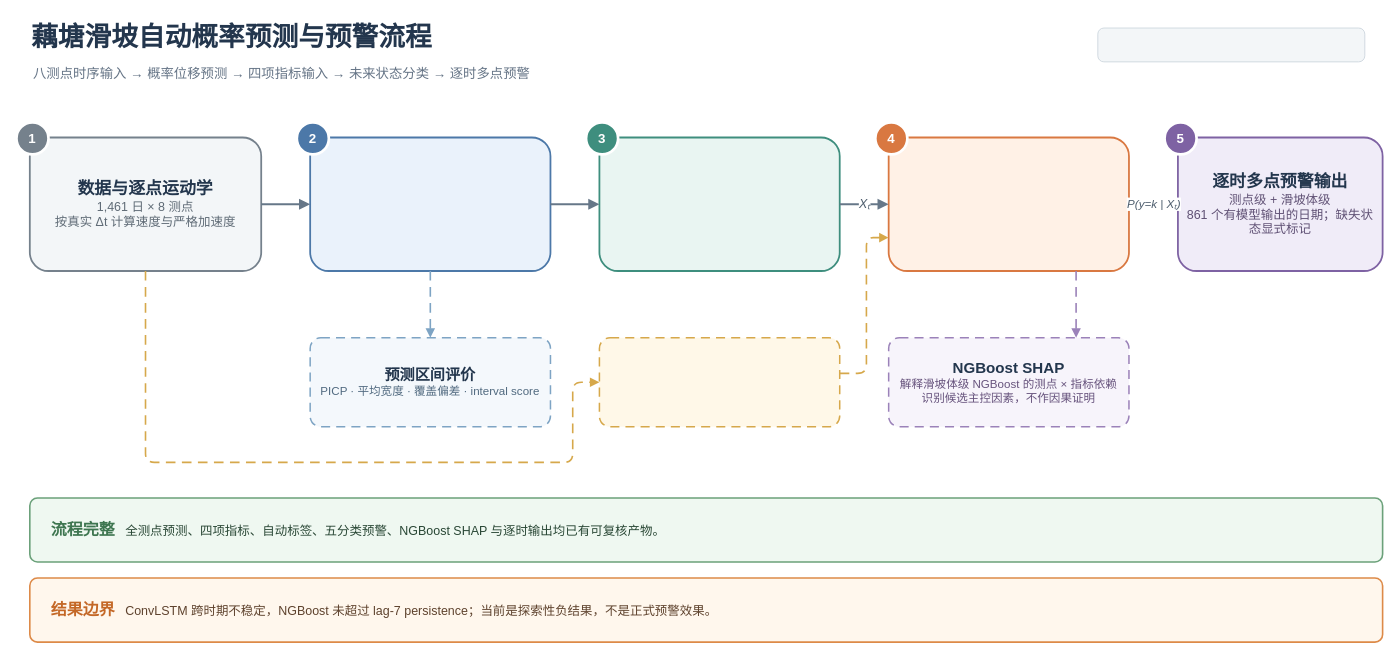
Image size: 1399x658. Some labels were removed from this diagram. Here are the shapes that lost their labels. From the top down, the box of each, then its label:
(1097, 27, 1365, 62): 藕塘 · 8 个测点 · H=7
(309, 136, 551, 271): ConvLSTM 概率位移预测 全部 8 点输出 P10 / P50 / P90 训练、校准与预测段完整展示
(598, 136, 840, 271): 当前时刻四项指标 Xₜ 区间位置 · 速度 · 严格加速度 改进切线角；只使用时刻 t 信息
(887, 136, 1129, 271): 滑坡体级 NGBoost 五分类 32 维输入（8 点 × 4 指标） 输出 green / blue / yellow / orange / red 概率
(598, 337, 840, 427): 自动未来状态 Yₐᵤₜₒ(t) t 后 H=7 多点变形代理结局 fold 1 拟合边界并固定外推；不人工逐时标注
